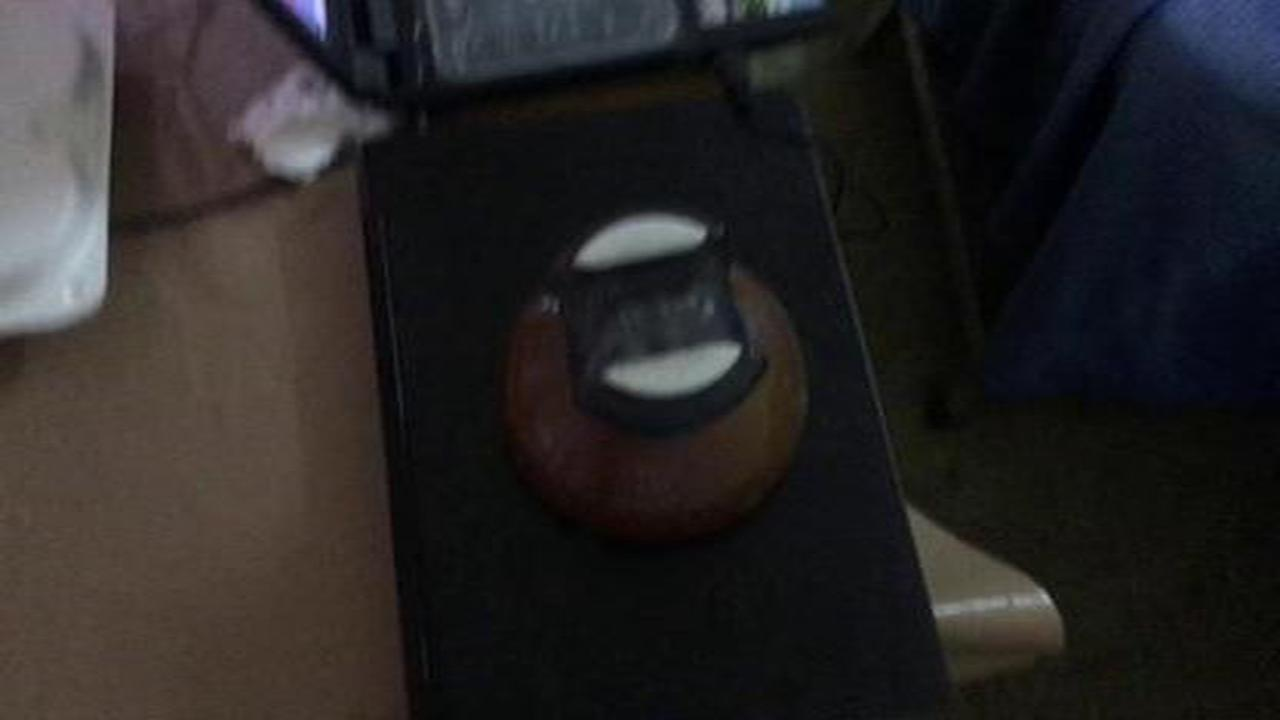insulator_pin: (468, 192, 837, 566)
